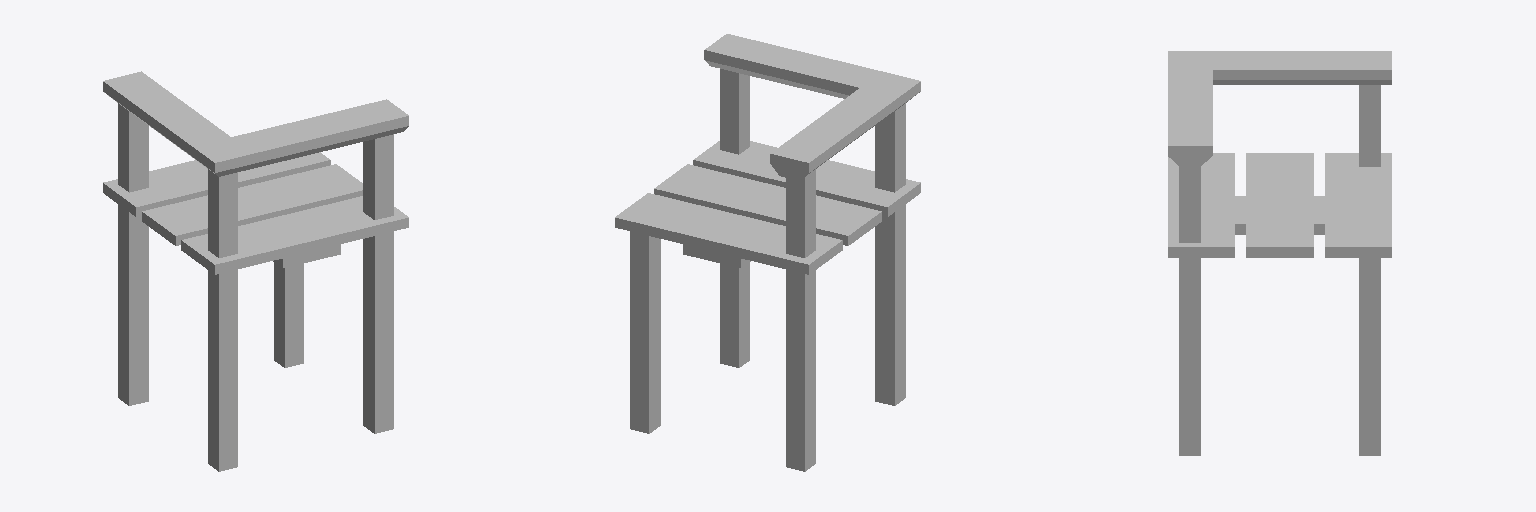
Rendered from scaffold_small_medium_cornerRight.obj.
3 views of the same model, side by side, from view 1: azimuth 30°, elevation 25°; view 2: azimuth 150°, elevation 25°; view 3: azimuth 270°, elevation 25° (orthographic).
Parts seen in each view (by area): view 1: scaffold_small_medium_cornerRight_Cube.2894; view 2: scaffold_small_medium_cornerRight_Cube.2894; view 3: scaffold_small_medium_cornerRight_Cube.2894.
Part boxes in pixels (left/top/right/bottom): scaffold_small_medium_cornerRight_Cube.2894: left=103, top=71, right=408, bottom=471; scaffold_small_medium_cornerRight_Cube.2894: left=615, top=34, right=920, bottom=471; scaffold_small_medium_cornerRight_Cube.2894: left=1168, top=51, right=1391, bottom=455.
Size of the model in its own units: 2 by 3.1 by 2.